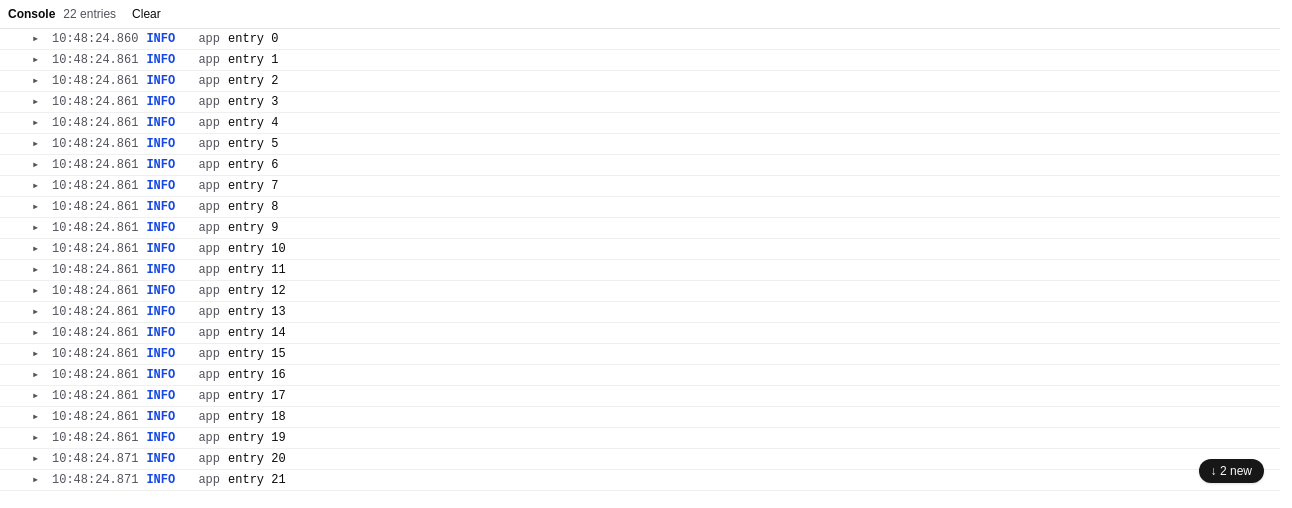
Test case: useStickToBottom (through ConsoleEntryList) › Clear hides the "N new" button
This screenshot has width=1292, height=508.
expect the button "↓ 2 new" is shown: met, box [1199,459,1264,483]
Click the button "Clear". click: [146, 14]
box: [124,4,169,24]
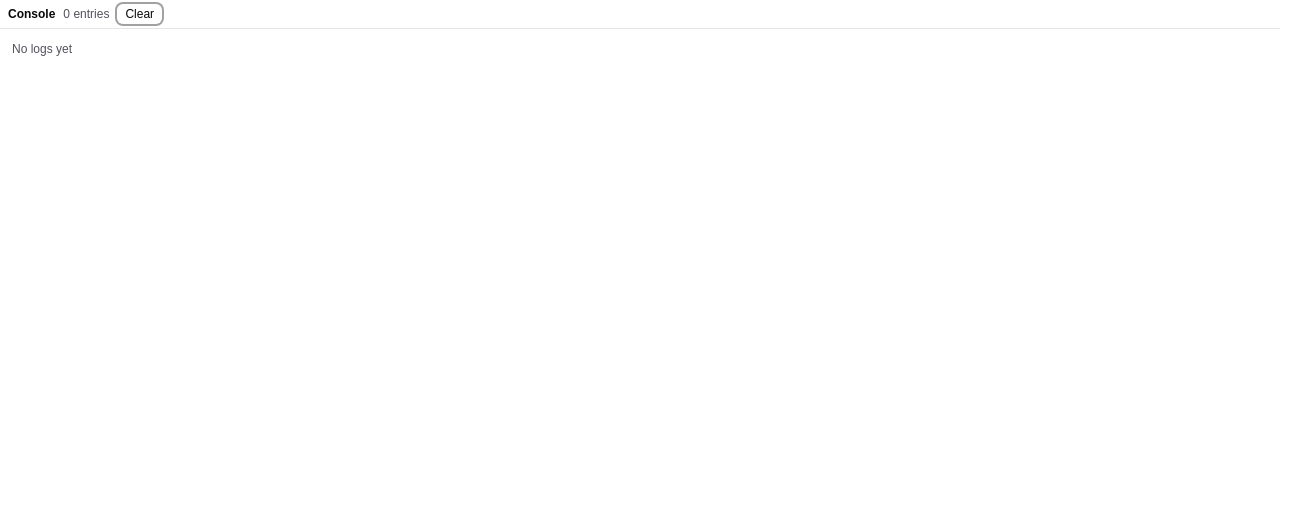
expect the button "↓ 2 new" is gone: met
